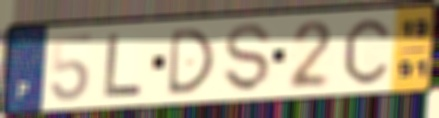2: (289, 19, 334, 92)
5: (48, 31, 94, 103)
C: (342, 16, 392, 86)
D: (165, 26, 218, 98)
L: (102, 31, 146, 100)
S: (223, 22, 274, 94)
